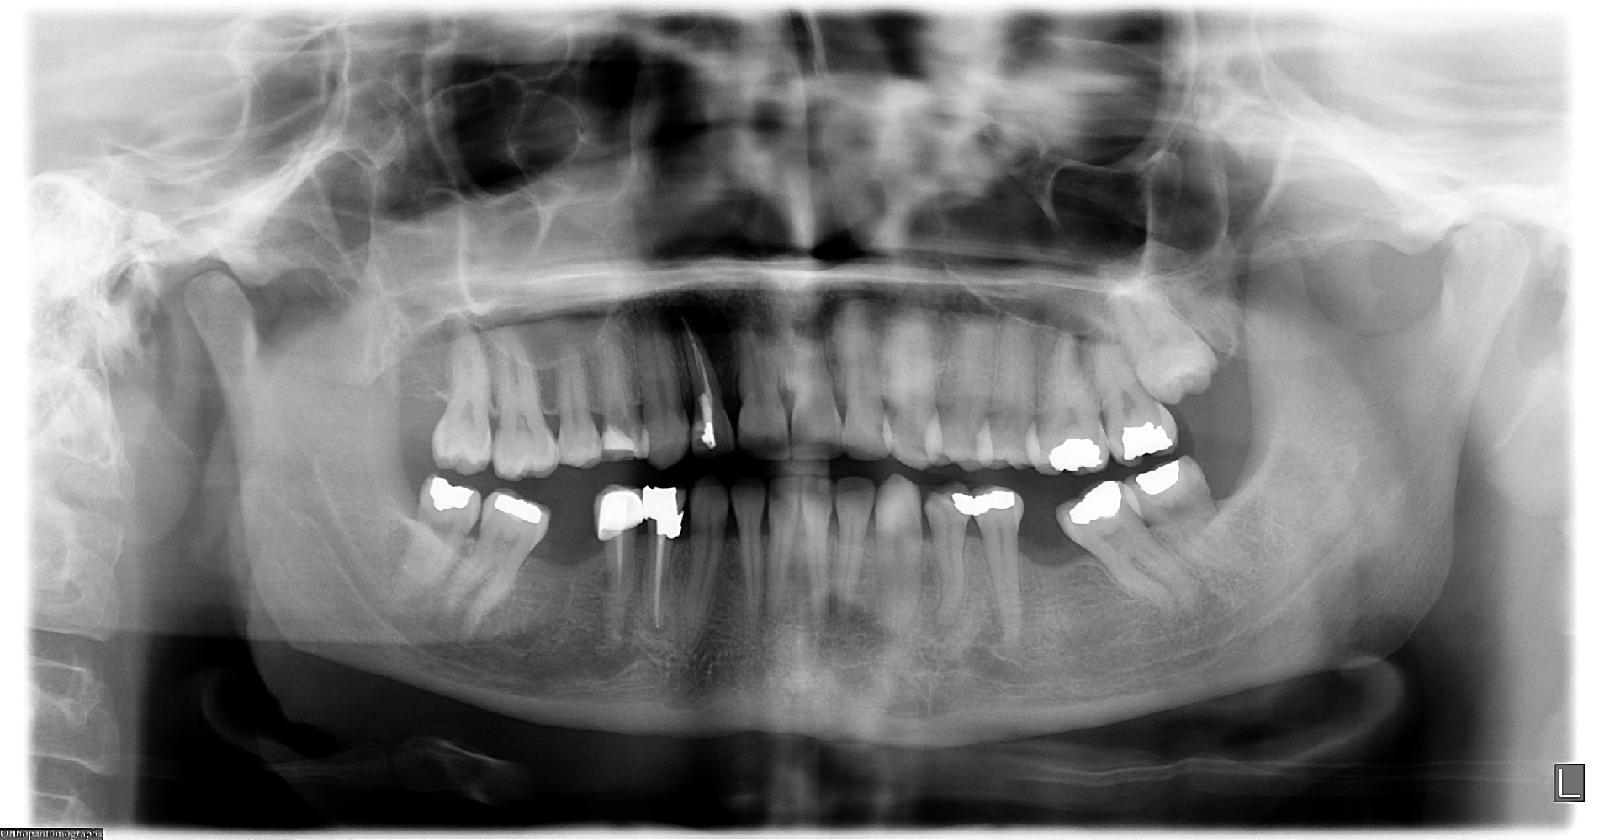Erupted: (1139, 458, 1268, 602), (376, 472, 484, 615)
